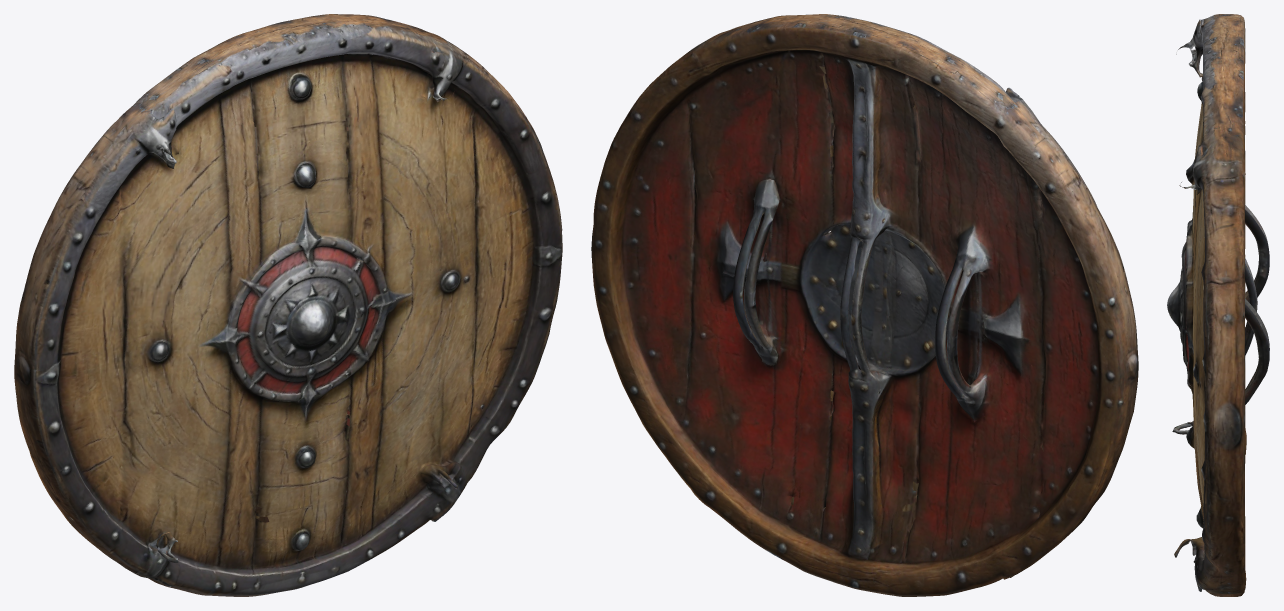
The model's file is PF_Shield4.glb.
The picture shows the model from 3 angles, left to right: view 1: azimuth 30°, elevation 25°; view 2: azimuth 150°, elevation 25°; view 3: azimuth 270°, elevation 25°; orthographic projection. The views are drawn at different scales.
Size of the model in its own units: 2 by 2 by 0.3526.
1 material, 1 textured.
